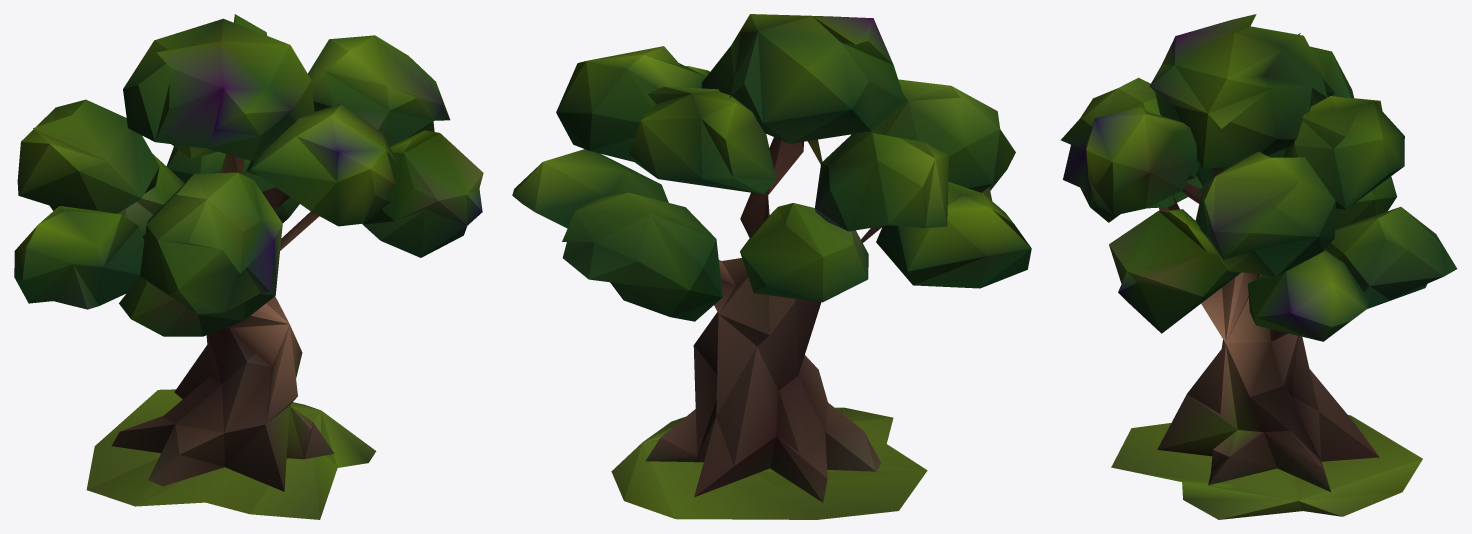
The model's file is tut_lo.glb.
3 renders of one model, left to right at view 1: azimuth 30°, elevation 25°; view 2: azimuth 150°, elevation 25°; view 3: azimuth 270°, elevation 25°, orthographic. The views are drawn at different scales.
Parts seen in each view (by area): view 1: geometry_0; view 2: geometry_0; view 3: geometry_0.
Part boxes in pixels (x1,y1,x2,y2): geometry_0: [14, 14, 483, 519]; geometry_0: [512, 14, 1031, 519]; geometry_0: [1061, 14, 1457, 519].
Size of the model in its own units: 0.9482 by 0.8892 by 0.7622.
